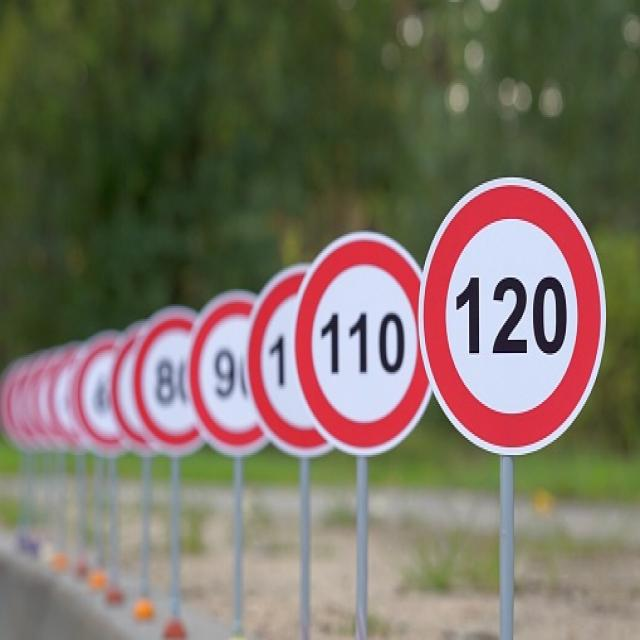speed_limit_120: (418, 172, 610, 458)
